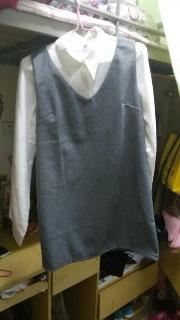long sleeve top: (9, 26, 156, 246)
vest: (30, 36, 159, 271)
